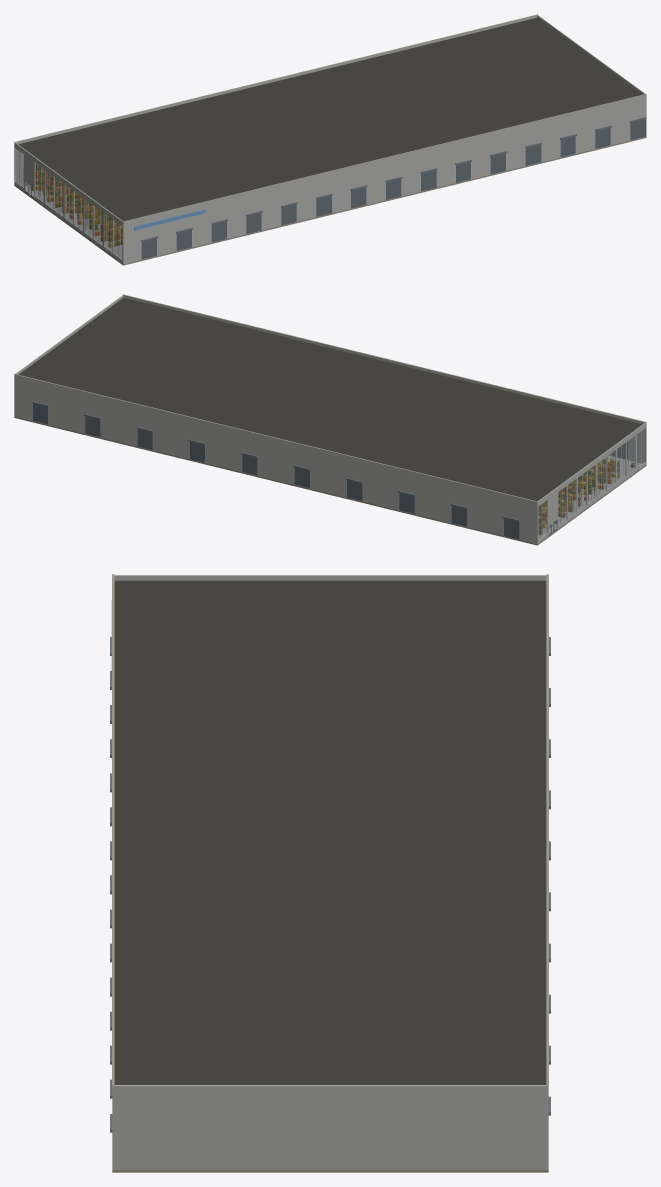
File: cargo_terminal.glb
3 renders of one model, top to bottom at view 1: azimuth 30°, elevation 25°; view 2: azimuth 150°, elevation 25°; view 3: azimuth 270°, elevation 25°, orthographic. The views are drawn at different scales.
Visible parts, largest first — view 1: LOD0, FURN; view 2: LOD0, FURN; view 3: LOD0.
Part boxes in pixels (x1=…): LOD0: x1=14, y1=14, x2=646, y2=265; FURN: x1=23, y1=165, x2=122, y2=247; LOD0: x1=14, y1=294, x2=646, y2=545; FURN: x1=538, y1=456, x2=634, y2=534; LOD0: x1=110, y1=574, x2=550, y2=1172.
Size of what is drawn, in the model's own units: 180 by 14.33 by 65.7.
